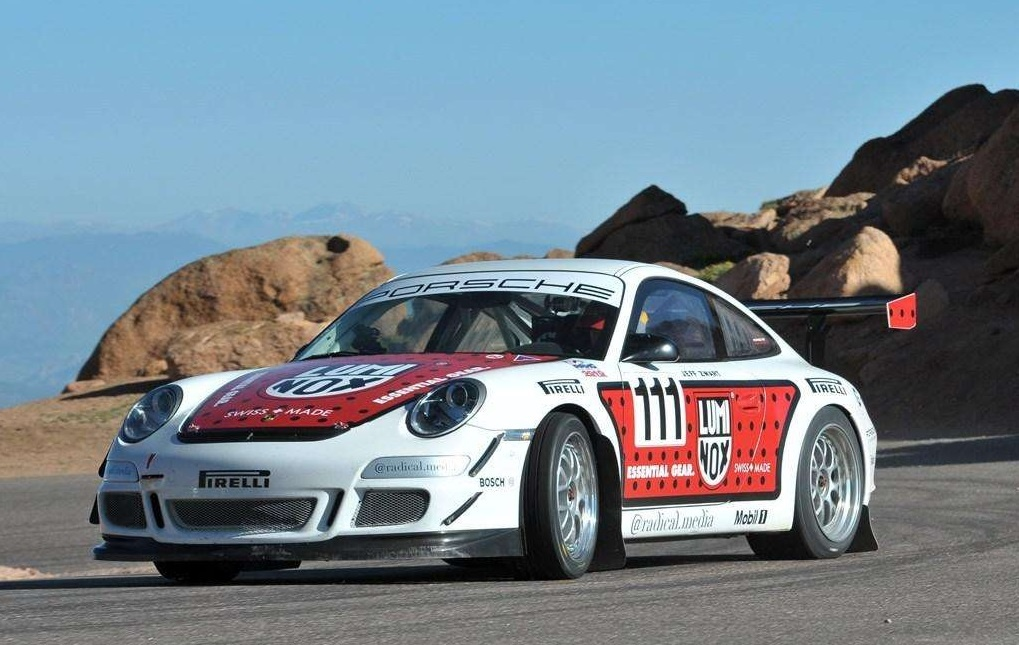racing car: (98, 251, 885, 579)
